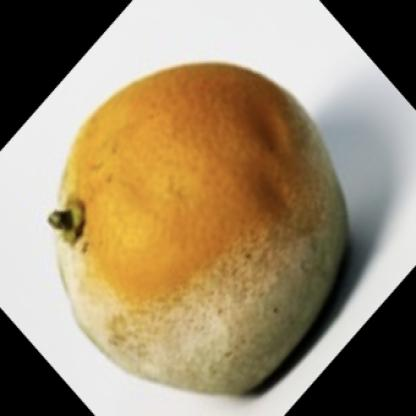rotten: (47, 62, 349, 403)
